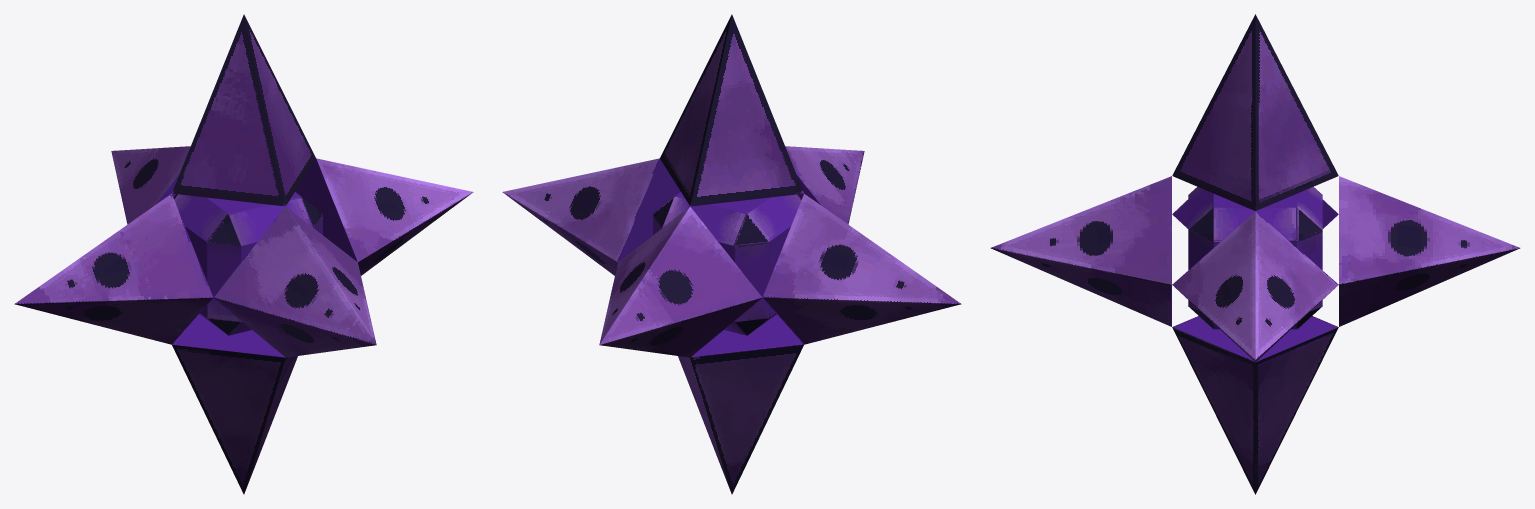
The model's file is item_stellate_anomaly.glb.
The picture shows the model from 3 angles, left to right: view 1: azimuth 30°, elevation 25°; view 2: azimuth 150°, elevation 25°; view 3: azimuth 270°, elevation 25°; orthographic projection.
Visible parts, largest first — view 1: AlienStar, AlienStar_Interior; view 2: AlienStar, AlienStar_Interior; view 3: AlienStar, AlienStar_Interior.
Boxes of the visible parts, x1=… form: AlienStar: x1=14, y1=14, x2=473, y2=494; AlienStar_Interior: x1=173, y1=192, x2=322, y2=335; AlienStar: x1=502, y1=14, x2=961, y2=494; AlienStar_Interior: x1=653, y1=192, x2=802, y2=335; AlienStar: x1=990, y1=14, x2=1520, y2=494; AlienStar_Interior: x1=1188, y1=187, x2=1322, y2=329.
Size of the model in its own units: 0.6698 by 0.6698 by 0.6698.
Materials: 1 (1 with a texture image).
